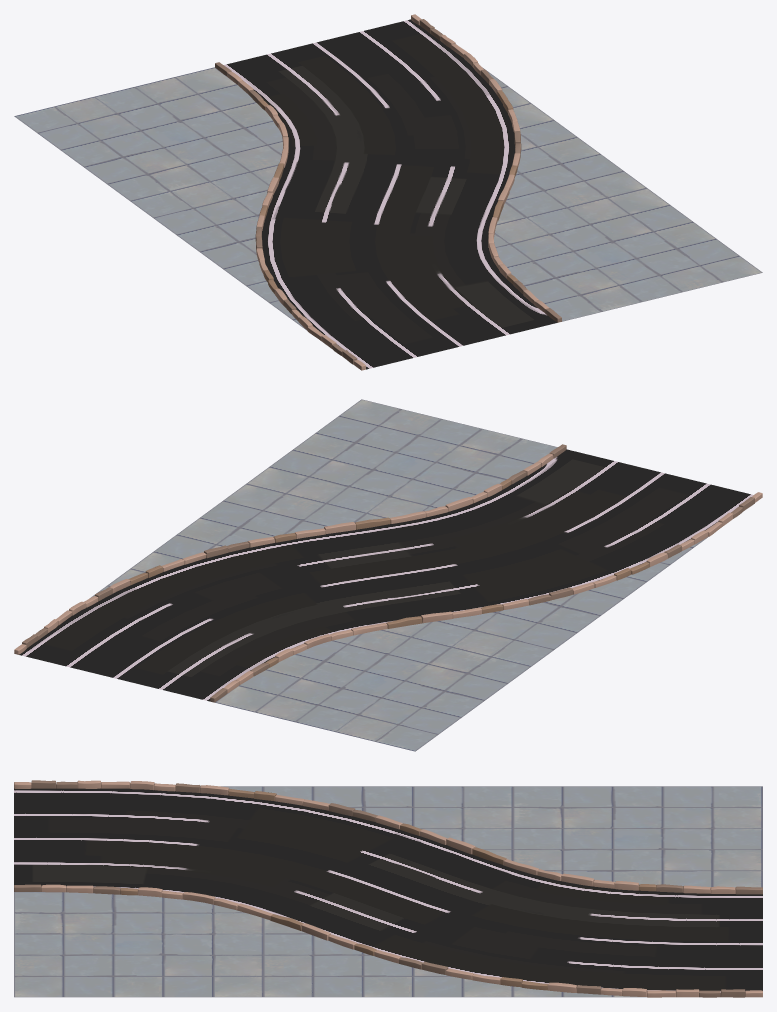
File: CityRoad_longChicaneWide.fbx
3 views of the same model, one above another, from view 1: azimuth 30°, elevation 25°; view 2: azimuth 150°, elevation 25°; view 3: azimuth 270°, elevation 25° (orthographic). The views are drawn at different scales.
Parts seen in each view (by area): view 1: CityRoad_longChicaneWide_mesh; view 2: CityRoad_longChicaneWide_mesh; view 3: CityRoad_longChicaneWide_mesh.
Part boxes in pixels (x1=…): CityRoad_longChicaneWide_mesh: x1=14, y1=14, x2=762, y2=370; CityRoad_longChicaneWide_mesh: x1=14, y1=399, x2=762, y2=751; CityRoad_longChicaneWide_mesh: x1=14, y1=780, x2=762, y2=997.
Size of the model in its own units: 2004 by 28.55 by 3000.
